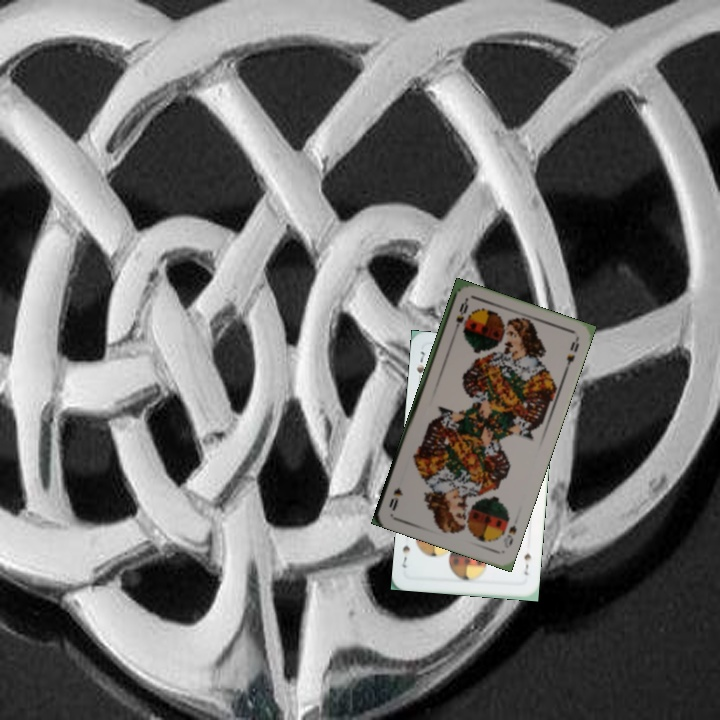S7: (413, 347, 427, 386), (520, 549, 533, 578)
SO: (450, 296, 471, 336), (499, 520, 519, 551)
